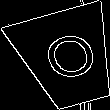O_S: (35, 28, 100, 89)
